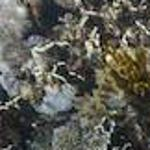alive: (6, 3, 146, 149)
